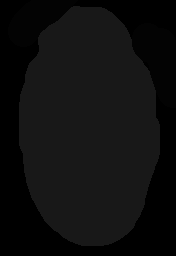fp: (13, 4, 161, 247)
